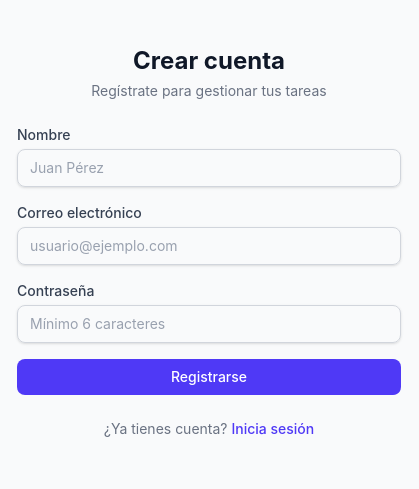
RegisterPage › shows error message on register failure
Type "Test" into the field labelled "Nombre" at (209, 168), box [17,149,401,187]
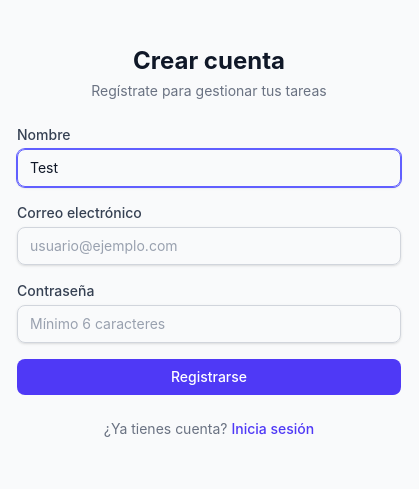
Type "dup@test.com" into the field labelled "Correo electrónico" at (209, 246), box [17,227,401,265]
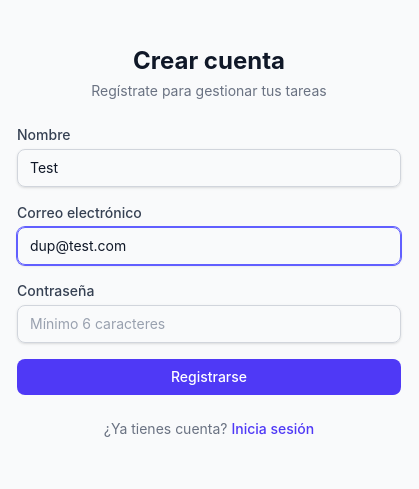
Type "123456" into the password field labelled "Contraseña" at (209, 324), box [17,305,401,343]
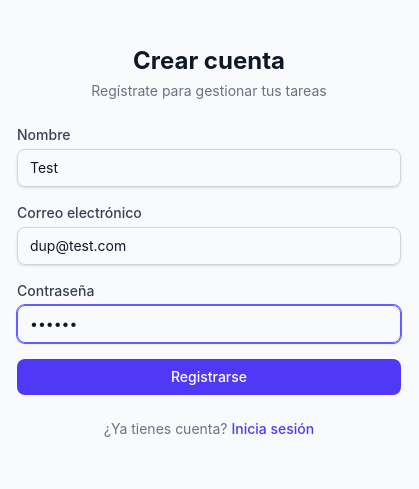
Click the button "Registrarse" at (209, 377), box [17,359,401,395]
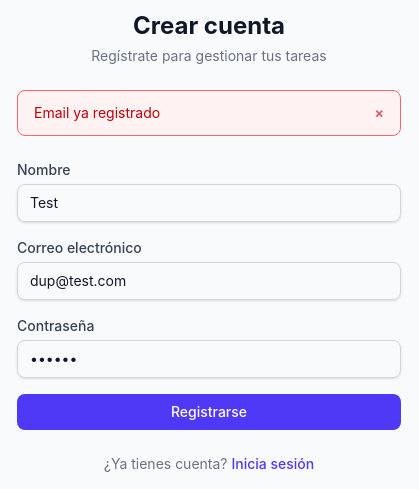
Check: the message shows "Email ya registrado", box [34,104,160,121]
